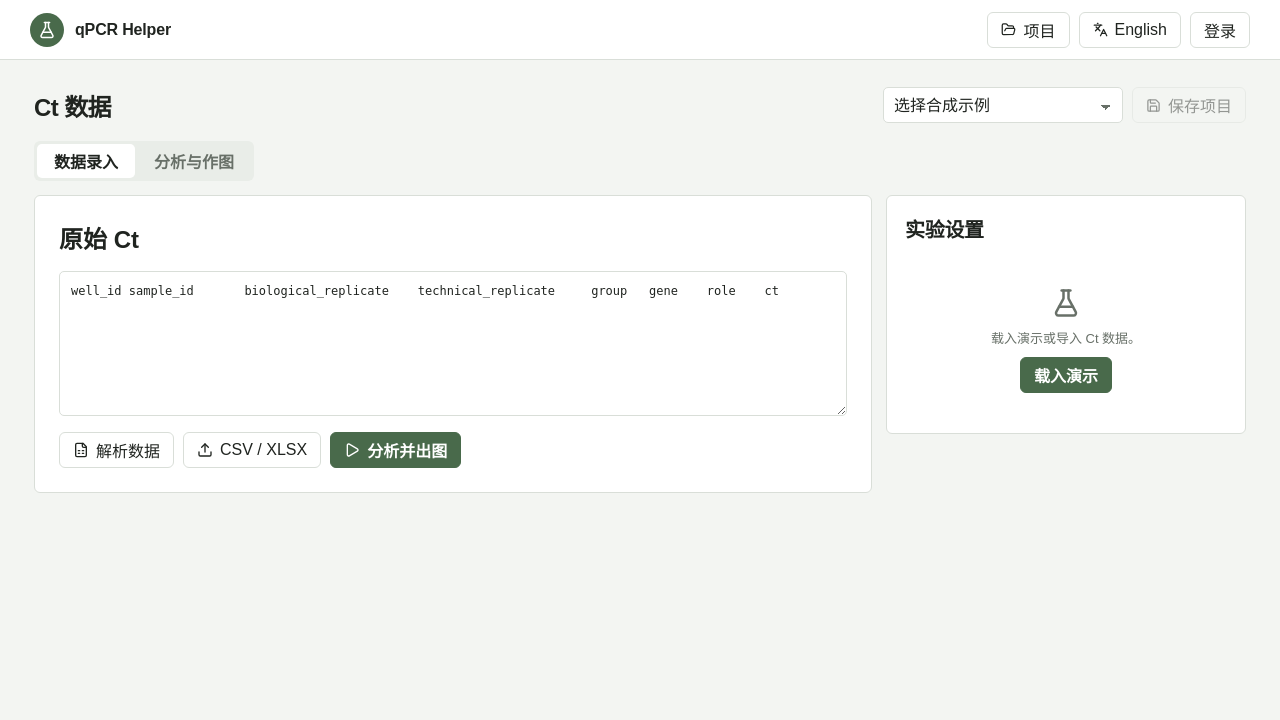
Test: qPCR workbench › saves and lists a guest project in the project library
Step 1. Click the button "载入演示" → (1066, 374), box [1020,356,1112,392]
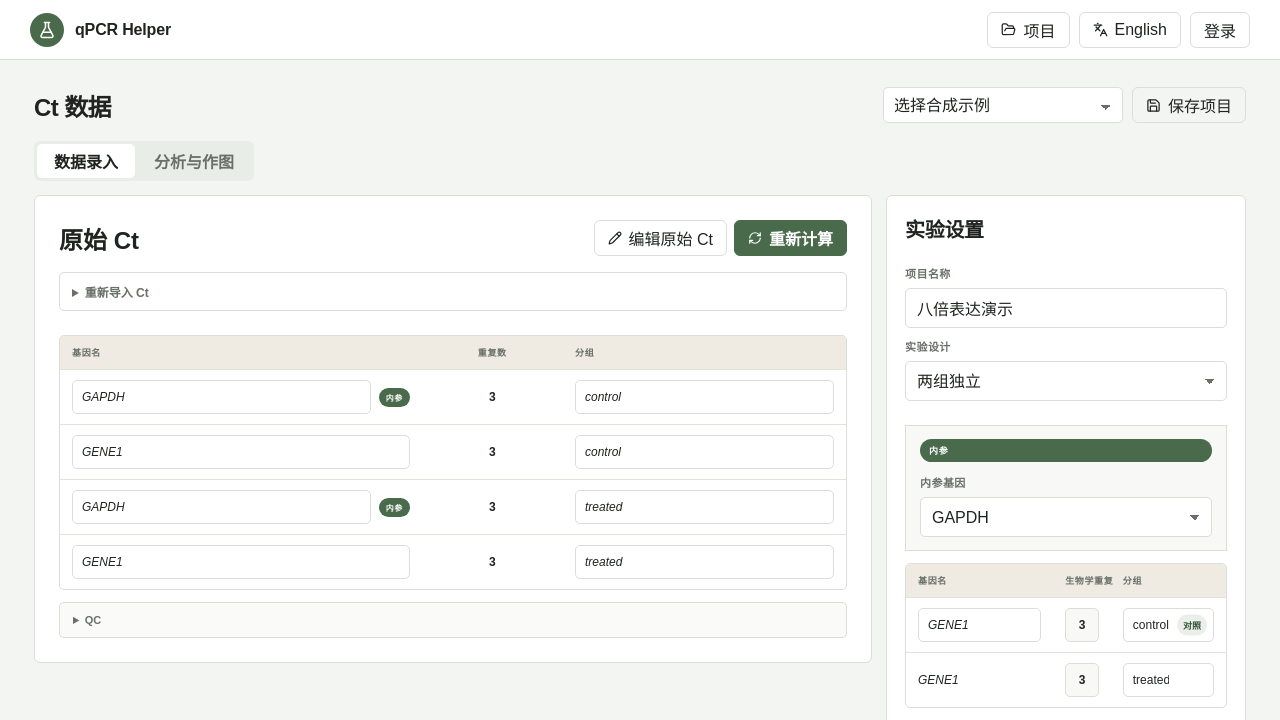
Step 2. Click the button "保存项目" → (1189, 105), box [1132,87,1246,123]
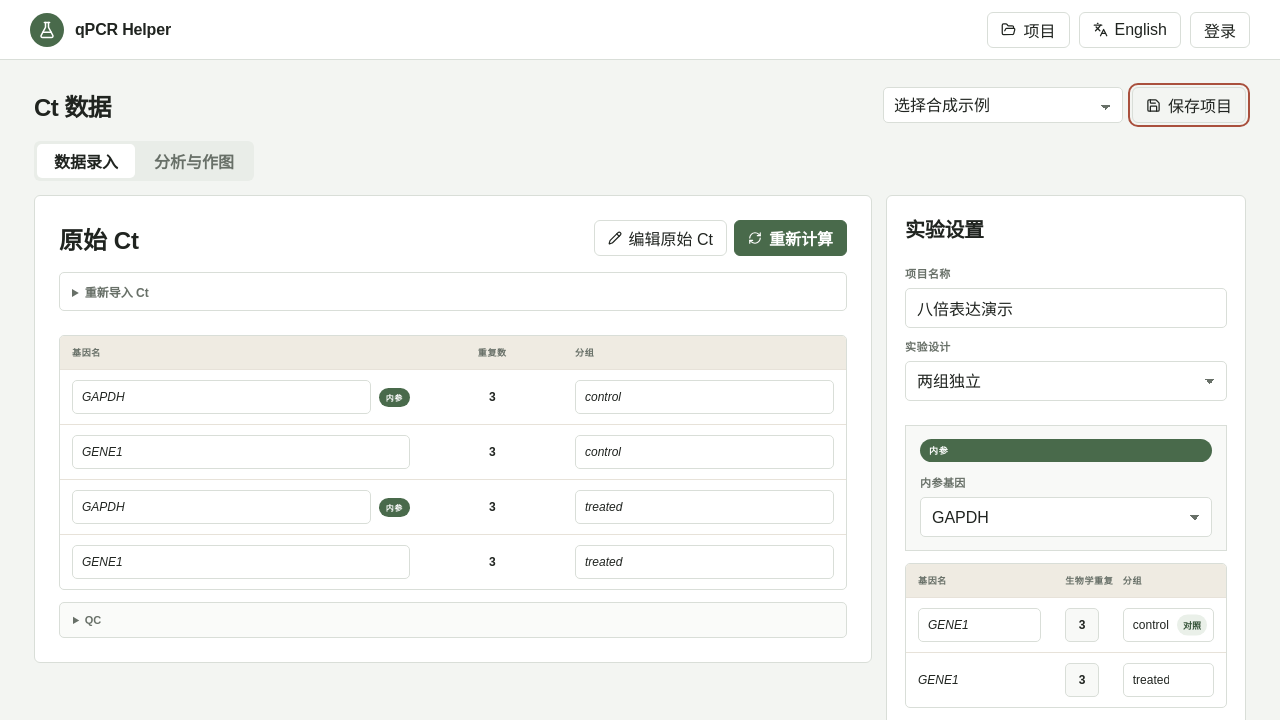
Step 3. Click the button "项目" → (1028, 30), box [988,12,1070,48]
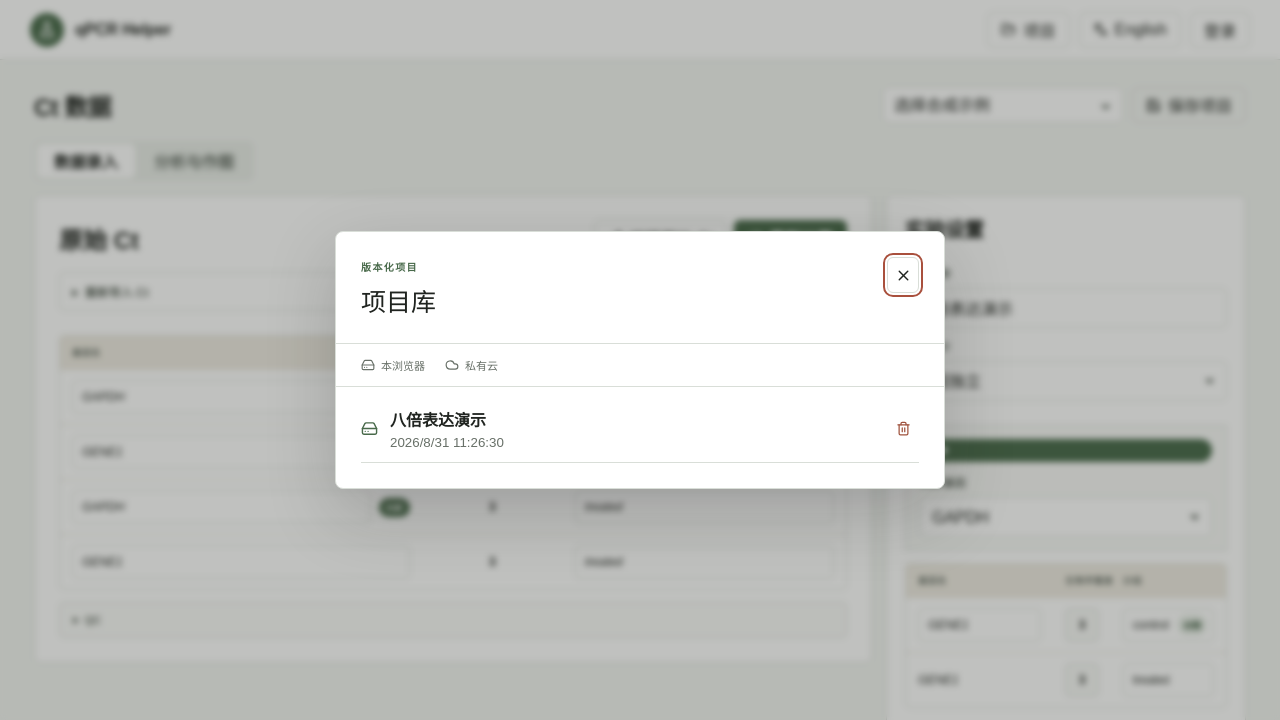
Expected: the text "八倍表达演示" is shown, [390,412,486,429]
